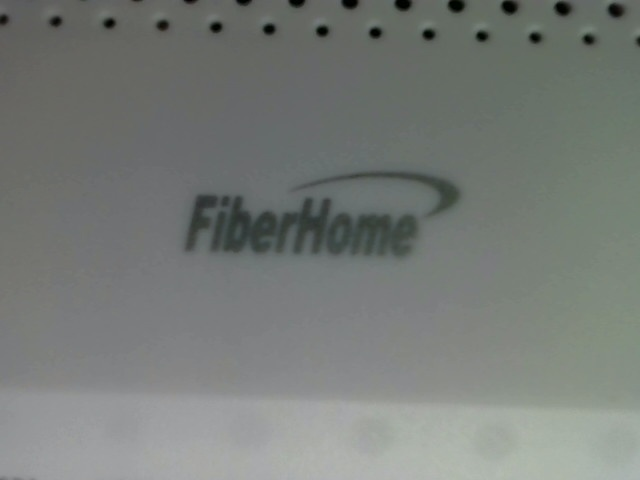AI_FiberHome: (178, 153, 462, 273)
